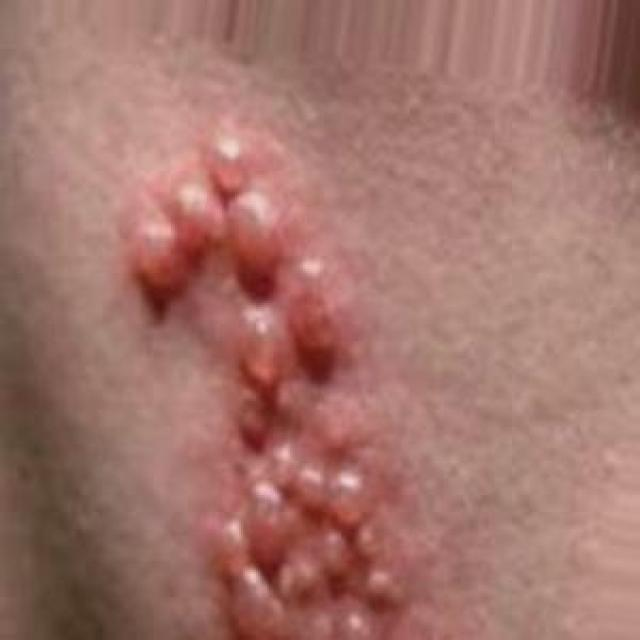Shingles: (130, 124, 409, 640)
